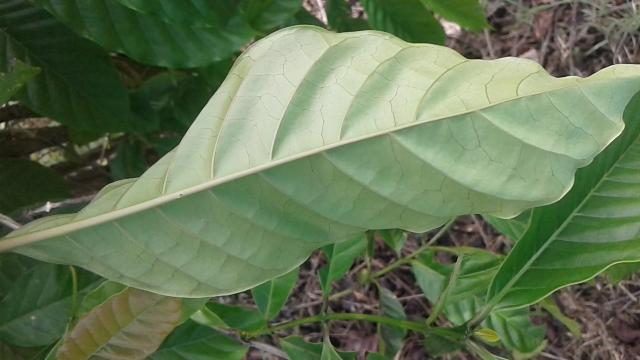healthy: (17, 32, 638, 299)
